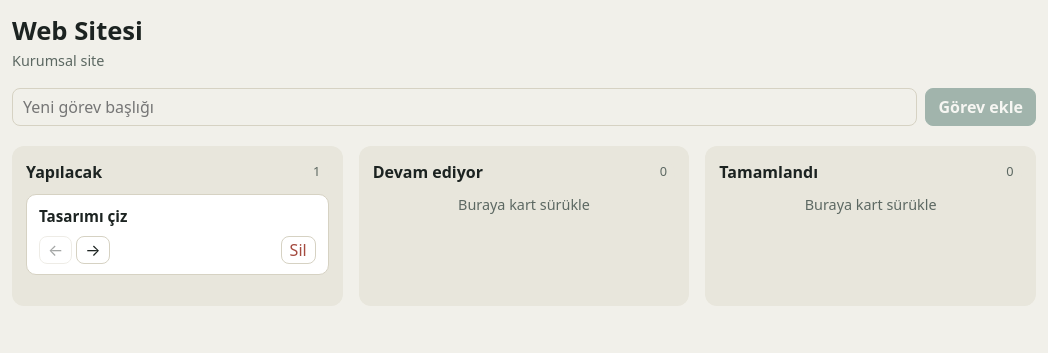
Test: Board › taşıma sunucuda başarısız olursa kart geri döner ve uyarı gösterilir
expect the heading "Web Sitesi" is shown: met, box x1=12 y1=13 x2=143 y2=48
Click the button named "\"Devam ediyor\" kolonuna taşı" at (93, 250), box x1=76 y1=236 x2=110 y2=264
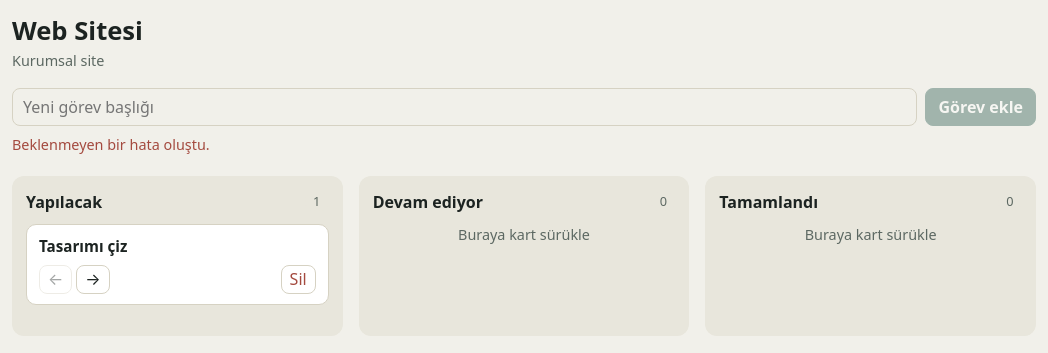
expect the heading "Tasarımı çiz" is shown: met, box x1=39 y1=236 x2=127 y2=256
expect the message reads "Beklenmeyen bir hata oluştu.": met, box x1=12 y1=135 x2=210 y2=154
